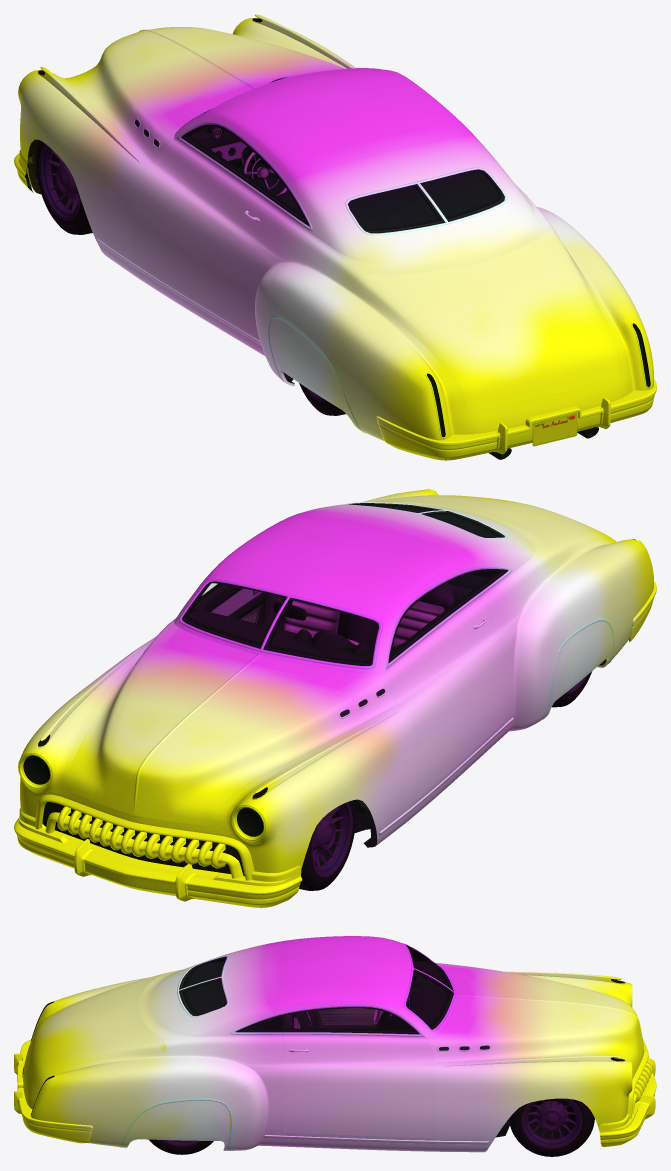
File: hermes.glb
3 renders of one model, top to bottom at view 1: azimuth 30°, elevation 25°; view 2: azimuth 150°, elevation 25°; view 3: azimuth 270°, elevation 25°, orthographic. The views are drawn at different scales.
Parts seen in each view (by area): view 1: bodyshell, boot, door_dside_f, bonnet, chassis, bumper_r, windscreen_r, misc_b, wheel_lf, window_lf, misc_a; view 2: bodyshell, bonnet, door_dside_f, bumper_f, chassis, boot, wheel_lf, misc_b, window_lf, misc_a, door_pside_f, windscreen_r; view 3: bodyshell, door_pside_f, bonnet, boot, chassis, misc_b, wheel_rf, bumper_f, window_rf, misc_a, bumper_r, door_dside_f (+2 smaller).
Boxes of the visible parts, box(x1,y1,x2,y2) form: bodyshell: box(18, 18, 653, 440); boot: box(354, 229, 620, 411); door_dside_f: box(132, 136, 280, 331); bonnet: box(74, 27, 345, 162); chassis: box(27, 78, 650, 437); bumper_r: box(376, 378, 656, 460); windscreen_r: box(350, 171, 501, 230); misc_b: box(267, 315, 365, 433); wheel_lf: box(36, 140, 92, 234); window_lf: box(185, 127, 281, 198); misc_a: box(38, 14, 352, 345); bodyshell: box(18, 489, 653, 877); bonnet: box(67, 621, 395, 826); door_dside_f: box(385, 590, 505, 799); bumper_f: box(14, 794, 302, 907); chassis: box(23, 489, 635, 876); boot: box(371, 495, 613, 560); wheel_lf: box(299, 800, 355, 890); misc_b: box(543, 618, 614, 719); window_lf: box(391, 574, 476, 657); misc_a: box(38, 648, 513, 835); door_pside_f: box(144, 583, 266, 644); windscreen_r: box(355, 504, 500, 536); bodyshell: box(23, 936, 644, 1152); door_pside_f: box(283, 1028, 433, 1137); bonnet: box(428, 963, 643, 1072); boot: box(27, 973, 166, 1091); chassis: box(31, 946, 509, 1137); misc_b: box(120, 1098, 233, 1150); wheel_rf: box(509, 1098, 594, 1156); bumper_f: box(599, 1038, 656, 1146); window_rf: box(283, 1009, 414, 1031); misc_a: box(263, 971, 625, 1144); bumper_r: box(14, 1040, 92, 1143); door_dside_f: box(315, 958, 414, 1029).
Size of the model in its own units: 1.99 by 1.33 by 5.15.
Materials: 16 (16 with a texture image).
